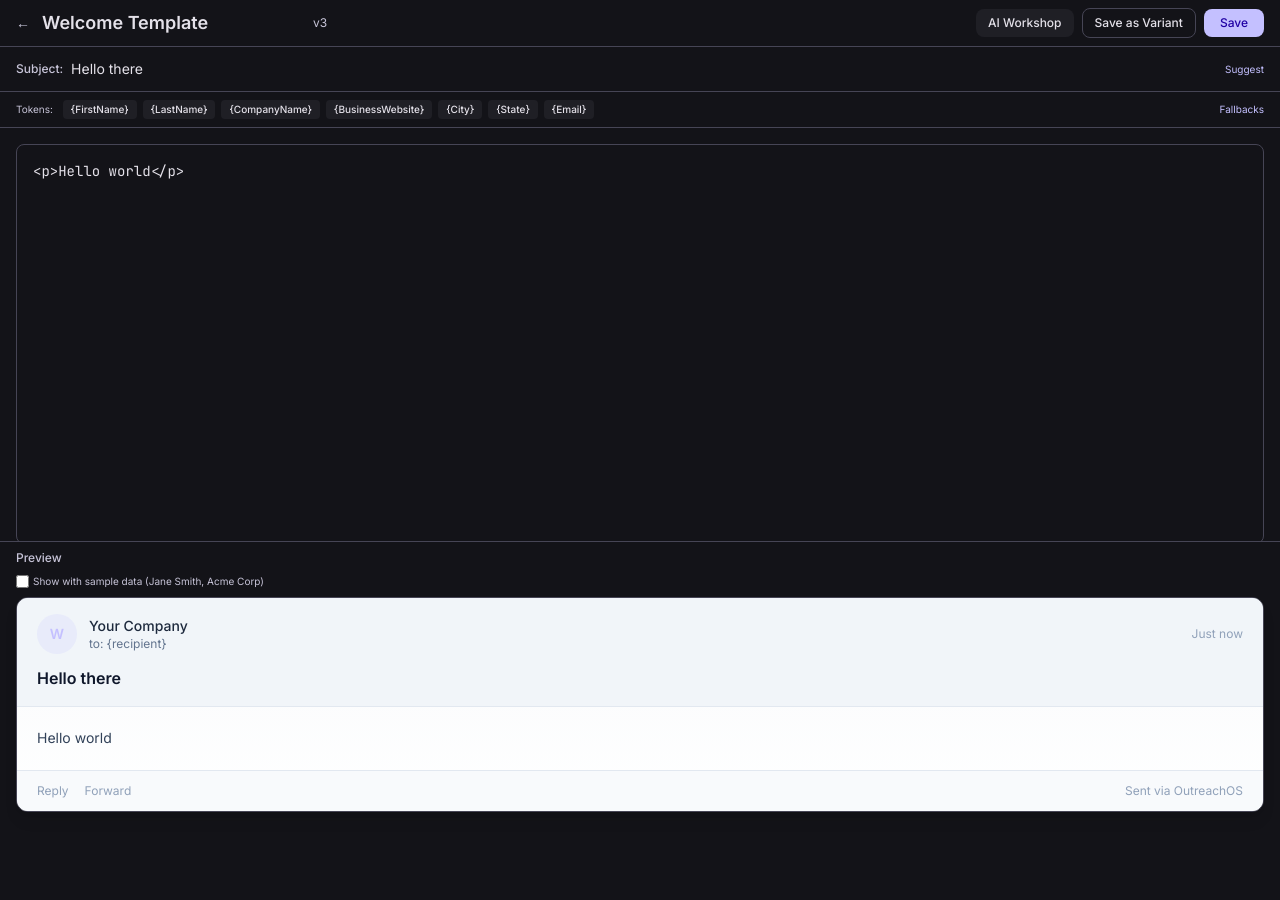
TemplateEditorPage › generates subject suggestions from json and applies one
The image size is (1280, 900).
Click the button "Suggest". click: (1244, 69)
box: [1225,62,1264,76]
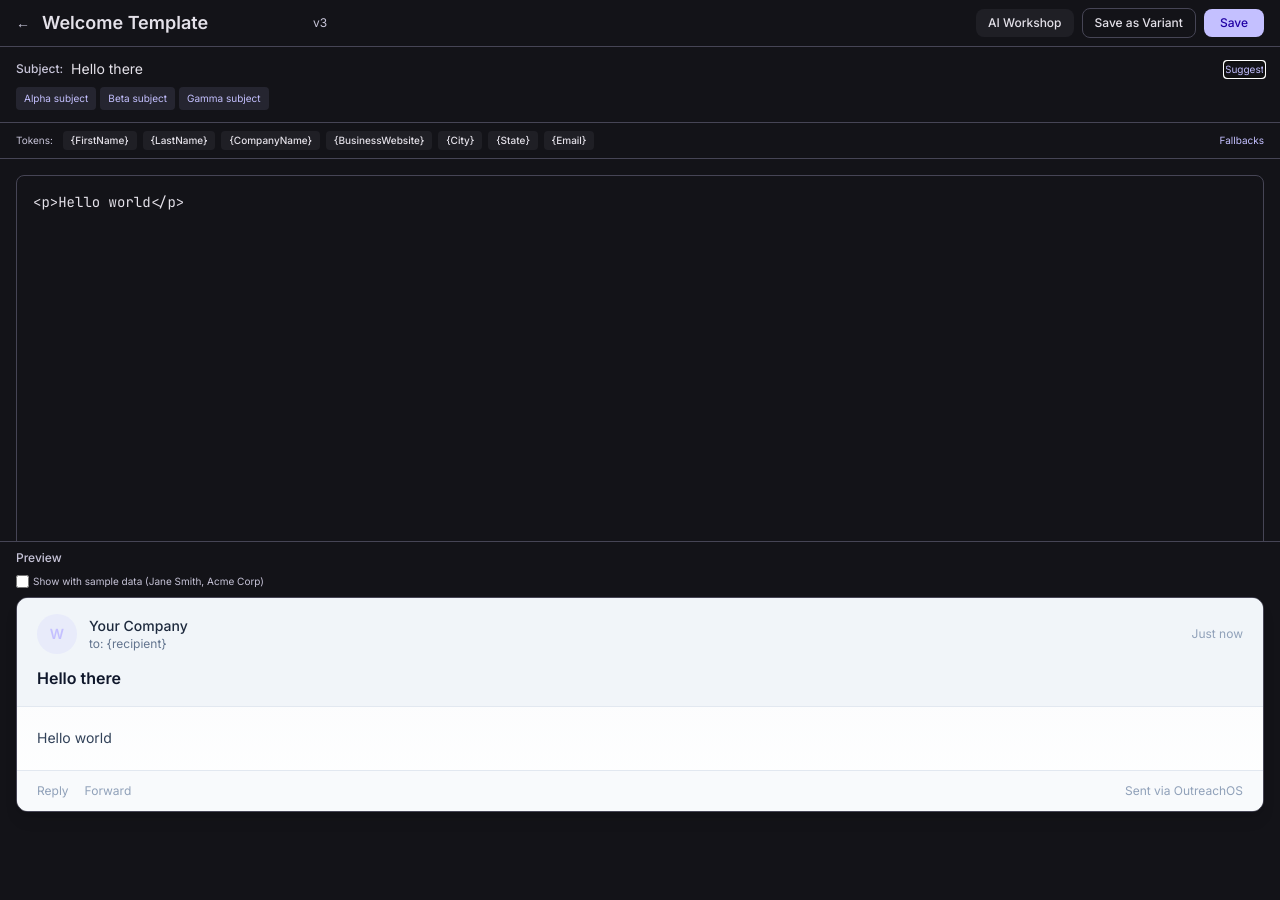
Click the button "Alpha subject". click: (56, 98)
box: [16,87,96,110]
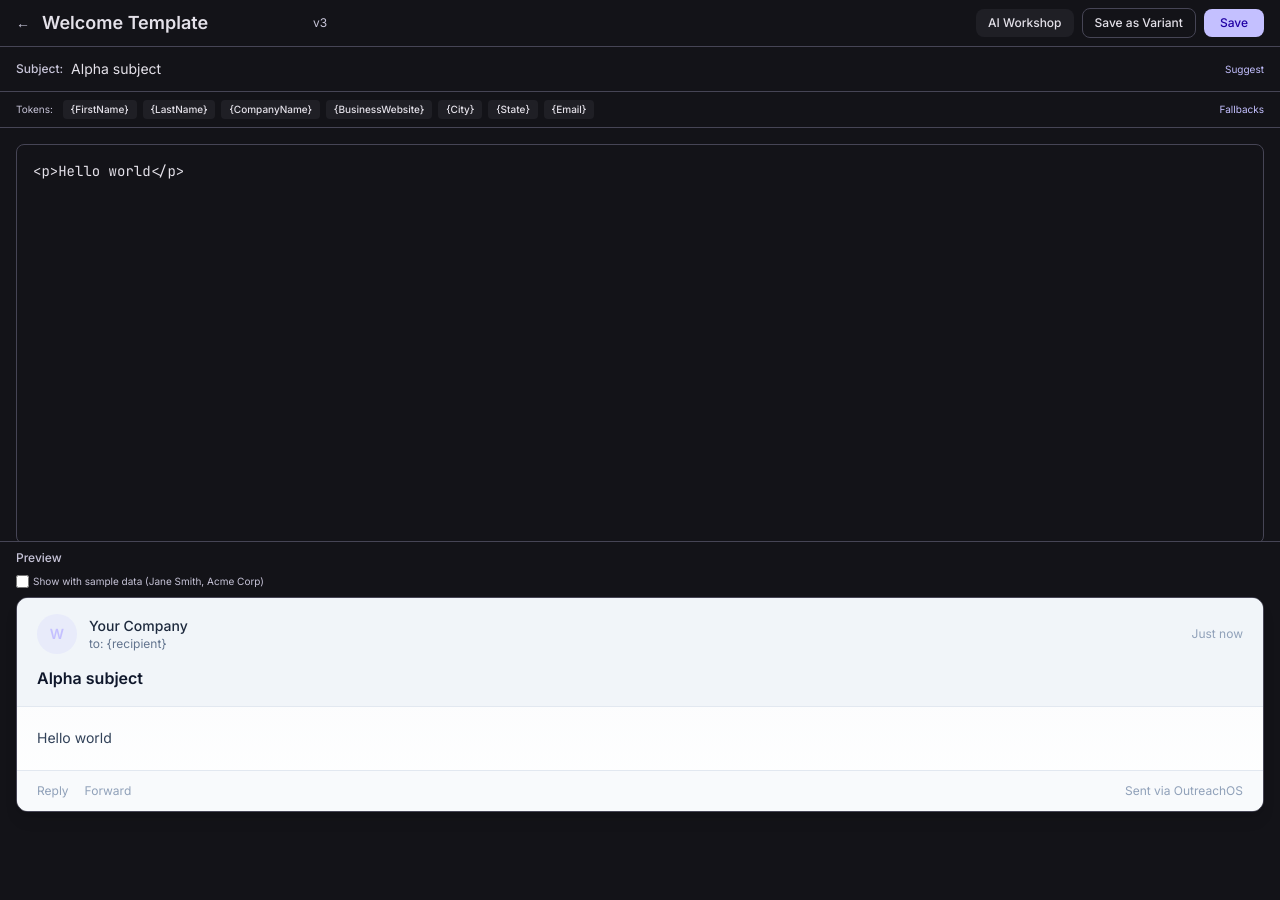
Check: the field with placeholder "Enter subject line..." next to "Subject:" holds "Alpha subject", box [71,59,1217,79]
Check: the button "Beta subject" is gone
